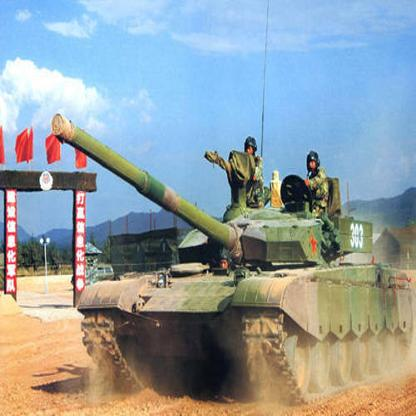Tank: (49, 115, 416, 408)
